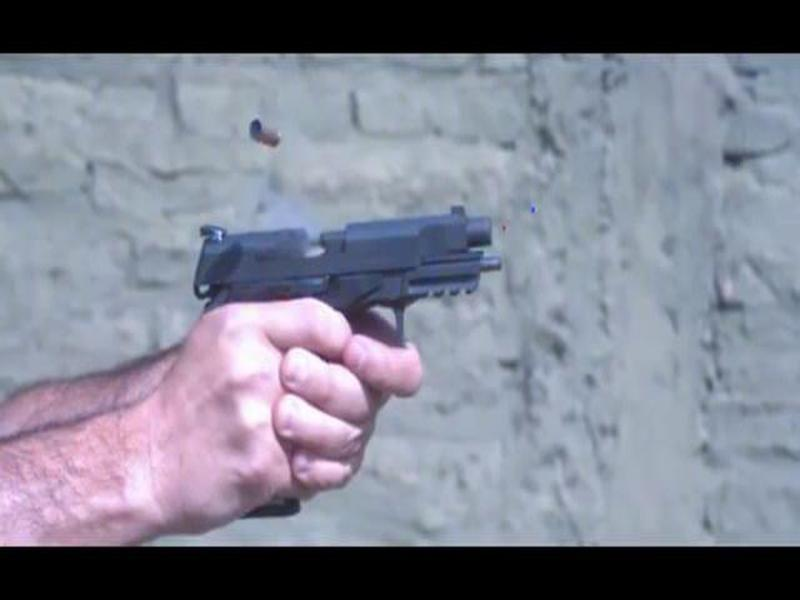Pistola: (187, 202, 506, 387)
